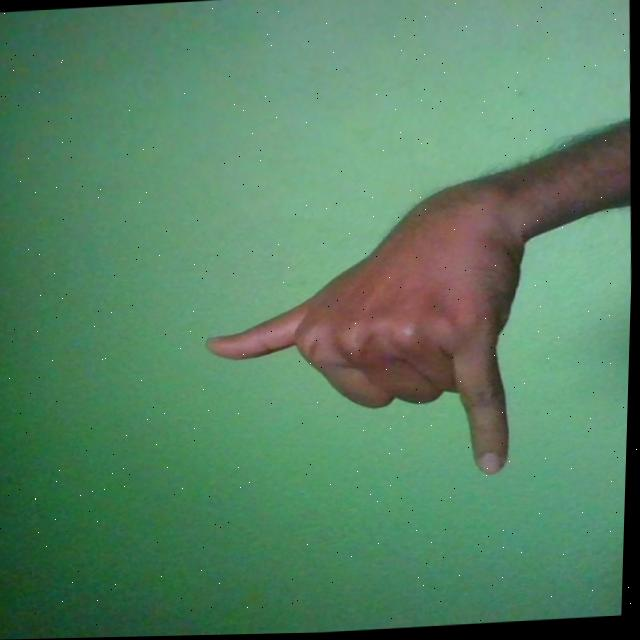Call Me: (196, 174, 538, 493)
